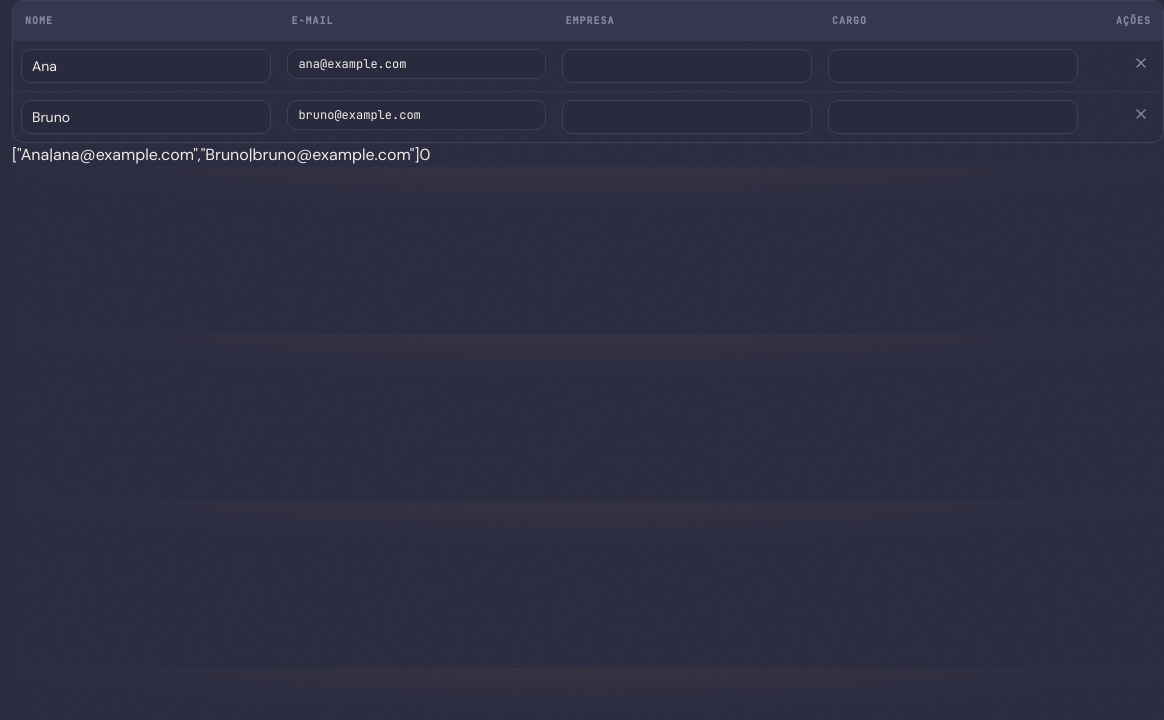
Test case: tabela de conferência ROS › sinaliza duplicado sem deixar o estado divergir do que está na tela
Replace the text in the field named "E-mail do contato 2" with "ana@example.com": (416, 115) top-left (287, 100), bottom-right (546, 130)
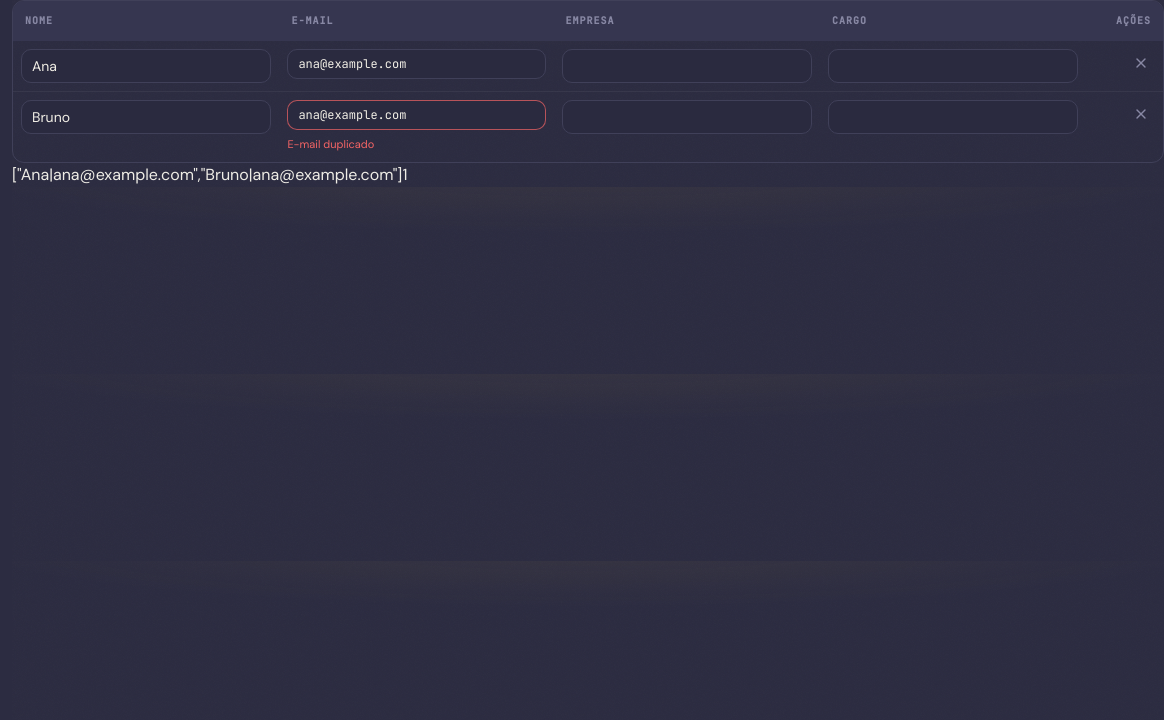
Expected: the text with test id "estado" shows "Bruno|ana@example.com", top-left (12, 164), bottom-right (402, 185)
Expected: the text with test id "erros" reads "1", top-left (402, 164), bottom-right (407, 185)
Expected: the text "E-mail duplicado" is shown, top-left (287, 137), bottom-right (374, 151)
